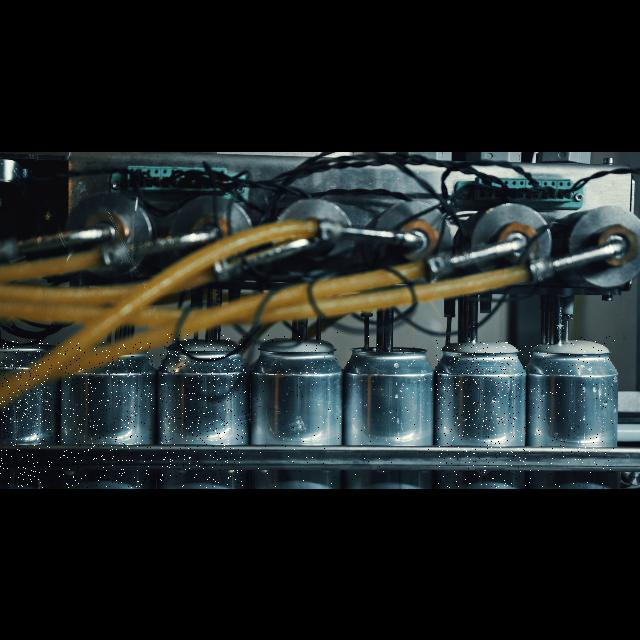empty: (58, 342, 154, 488), (347, 330, 429, 488), (0, 340, 52, 488)
full: (253, 332, 341, 488), (436, 340, 526, 488), (160, 334, 246, 488), (529, 334, 615, 488)
